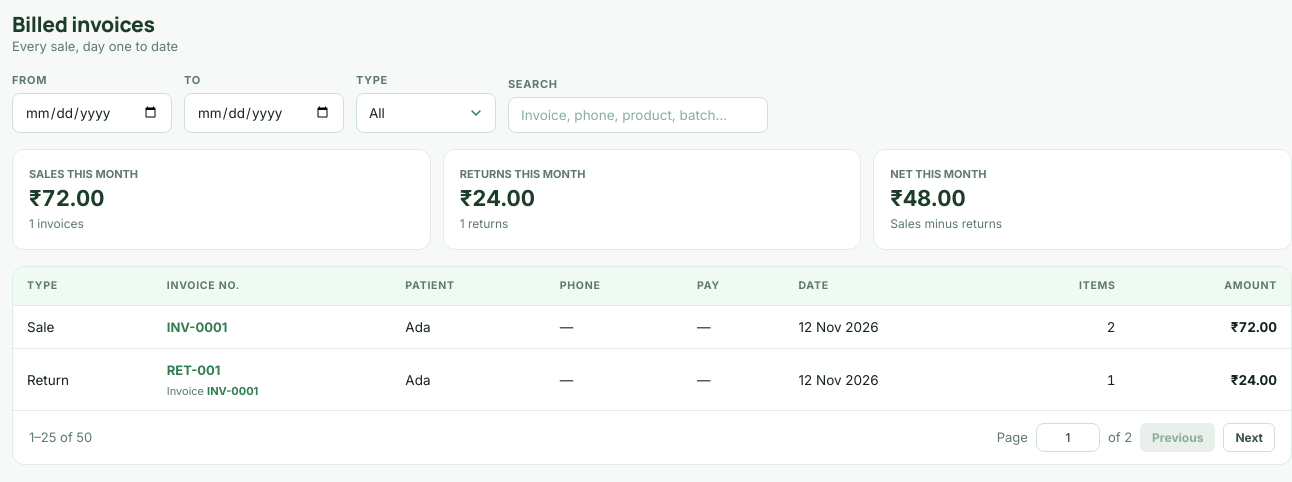
Test: SalesPage › asks the server to filter and leaves the month cards
Expected: the button "RET-001" is shown, top-left (167, 362), bottom-right (220, 378)
In the field named "Search sales": (638, 115) top-left (508, 97), bottom-right (768, 133), type "nobody"
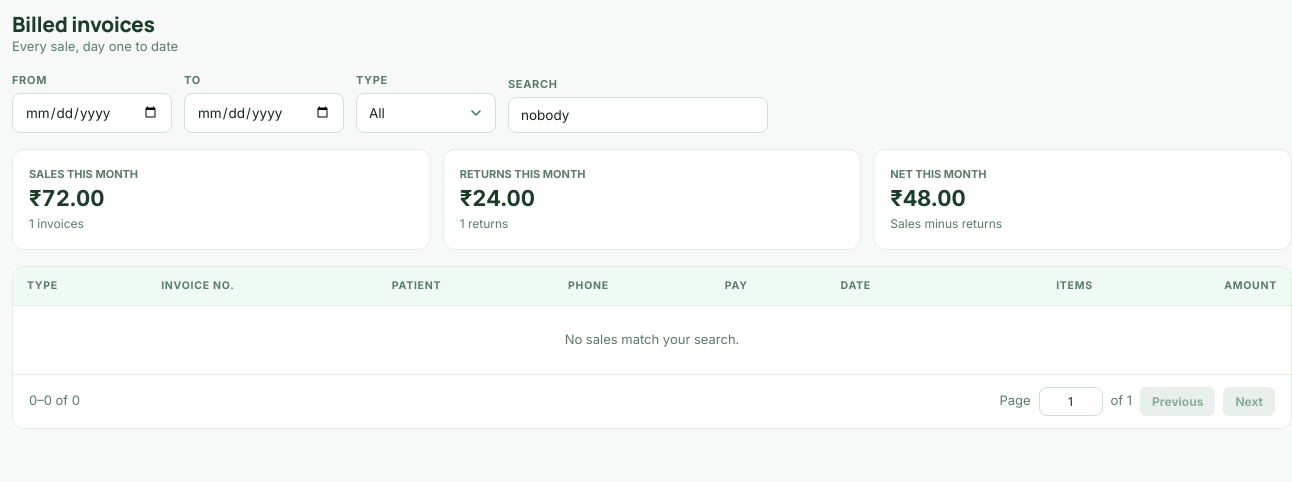
Expected: the text "Sales this month" is shown, top-left (29, 167), bottom-right (138, 181)
Expected: the text "No sales match your search." is shown, top-left (565, 331), bottom-right (739, 347)
